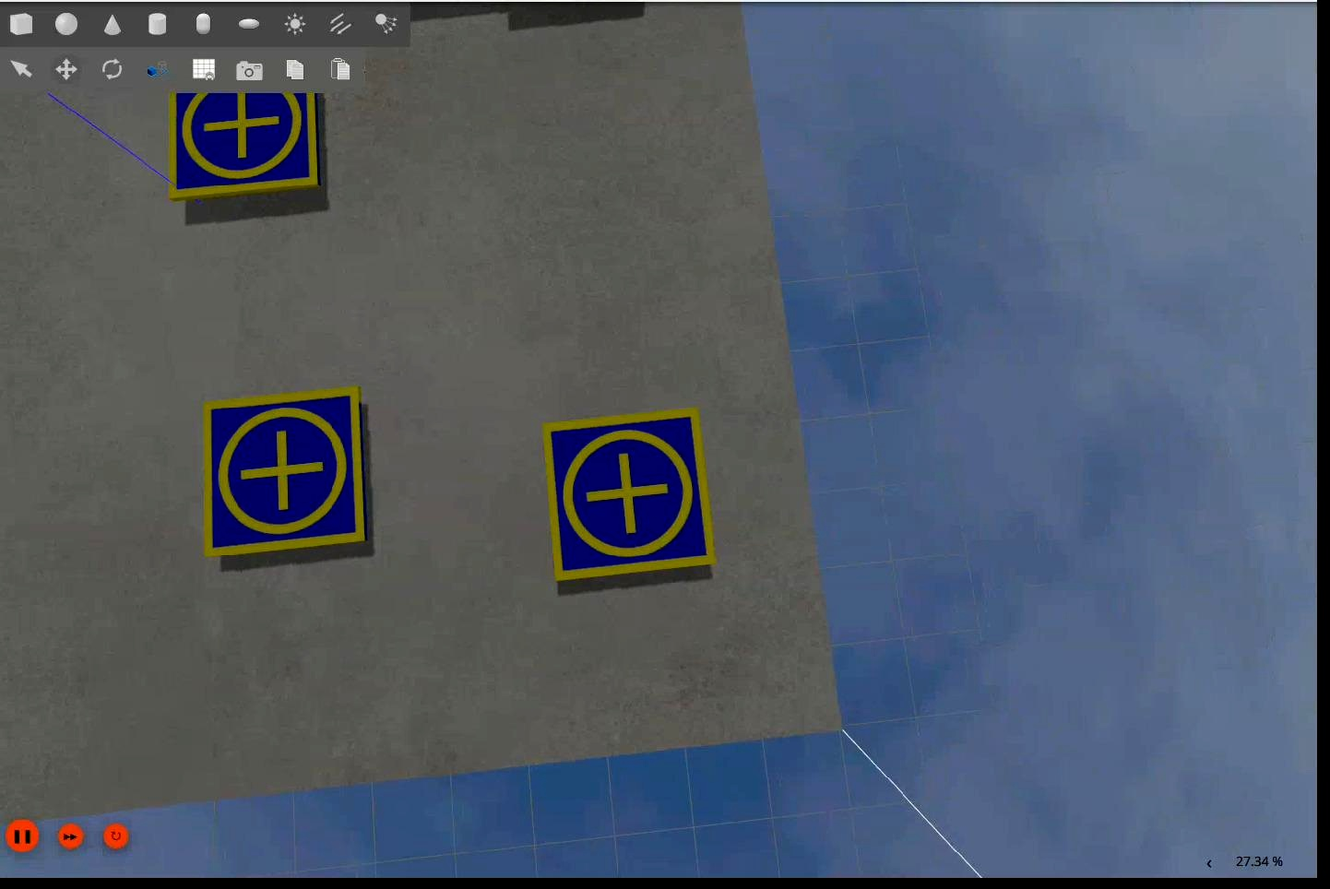small_base: (542, 408, 718, 589), (197, 387, 371, 563), (168, 87, 326, 203)
